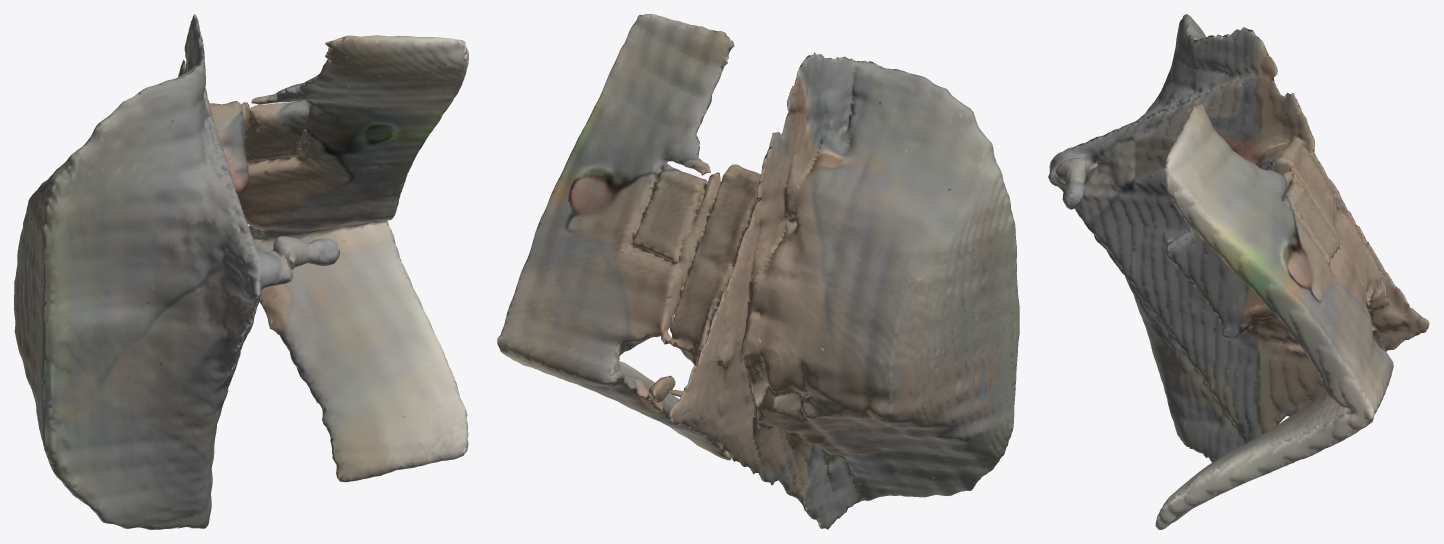
Rendered from clean.fbx.
3 renders of one model, left to right at view 1: azimuth 30°, elevation 25°; view 2: azimuth 150°, elevation 25°; view 3: azimuth 270°, elevation 25°, orthographic. The views are drawn at different scales.
Parts seen in each view (by area): view 1: raw; view 2: raw; view 3: raw.
Part boxes in pixels (x1,y1,x2,y2): raw: [14, 14, 468, 529]; raw: [497, 14, 1019, 529]; raw: [1048, 14, 1429, 529].
Size of the model in its own units: 91.5 by 100 by 77.22.
Materials: 1 (1 with a texture image).
